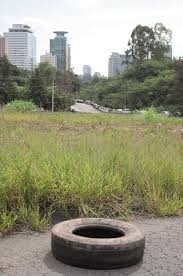tire: (52, 218, 144, 269)
